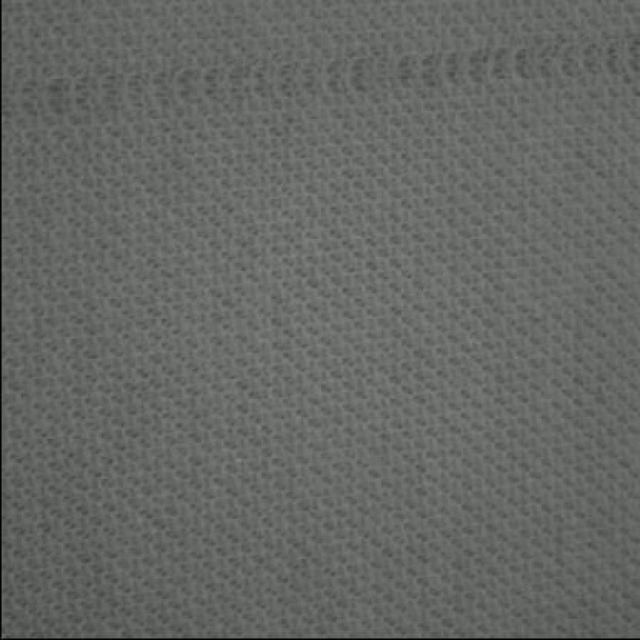Line: (0, 31, 640, 124)
